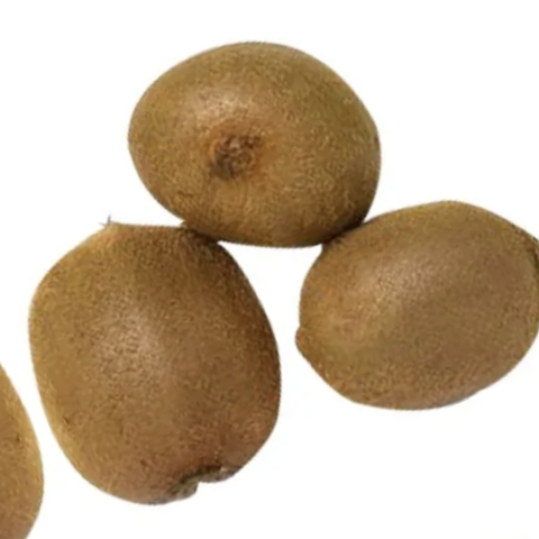kiwi: (0, 158, 338, 539), (81, 0, 440, 321), (251, 166, 539, 478)
